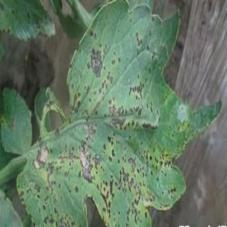Bacterial Spot: (0, 1, 223, 227)
